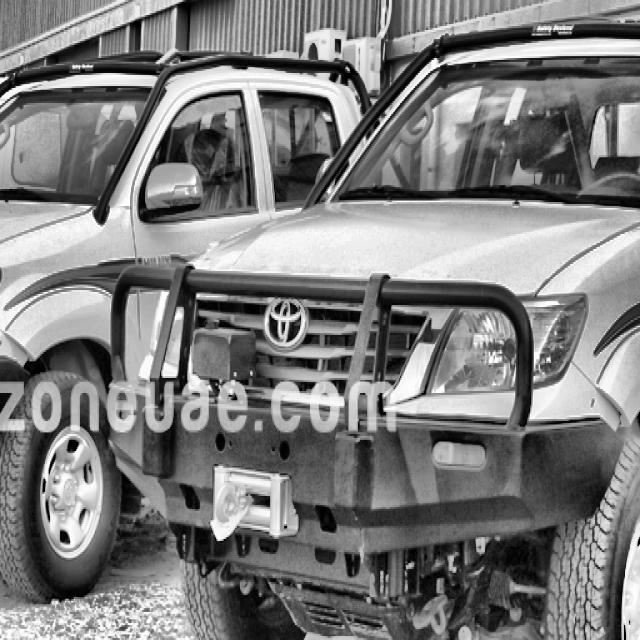light_vehicle: (120, 13, 640, 640)
